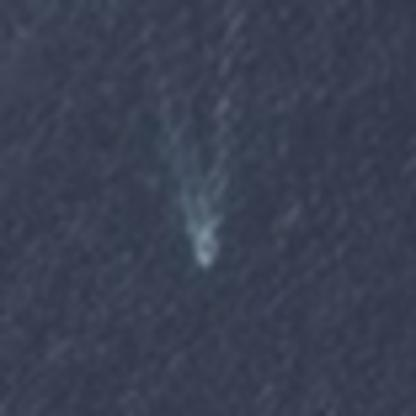ship: (183, 238, 227, 271)
